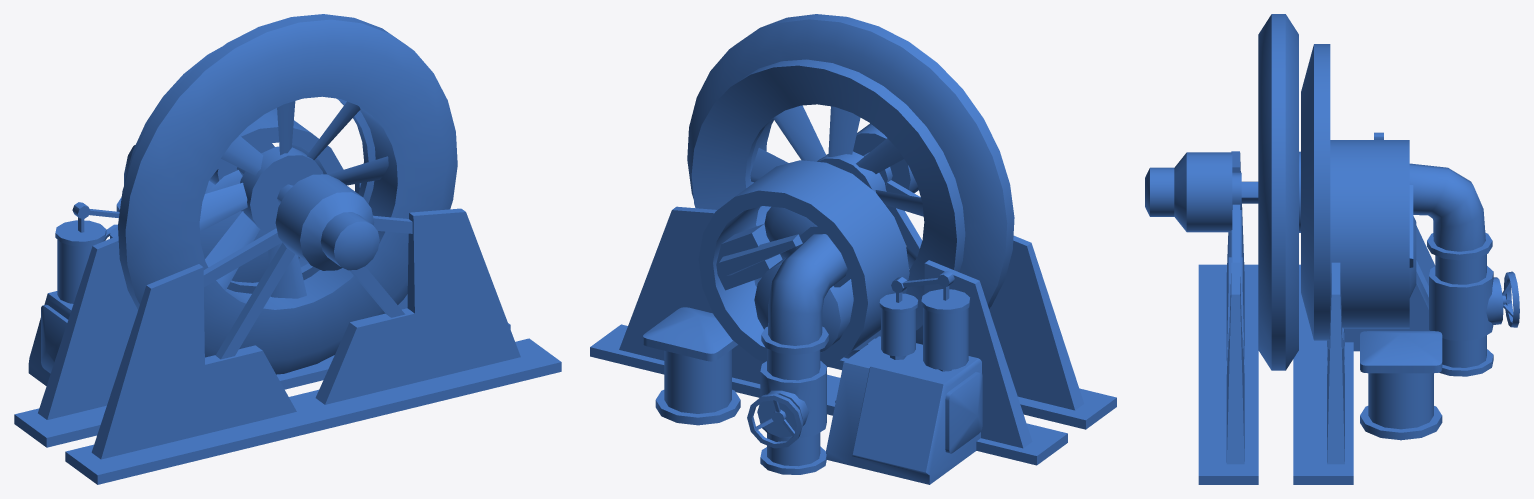
Rendered from Turbine.fbx.
3 views of the same model, side by side, from view 1: azimuth 30°, elevation 25°; view 2: azimuth 150°, elevation 25°; view 3: azimuth 270°, elevation 25° (orthographic). The views are drawn at different scales.
Visible parts, largest first — view 1: Turbine; view 2: Turbine; view 3: Turbine.
Part boxes in pixels (x1,y1,x2,y2): Turbine: (14,14,561,484); Turbine: (590,14,1116,484); Turbine: (1145,14,1519,484).
Bounding box in the file's own units: 497 × 385 × 373.
